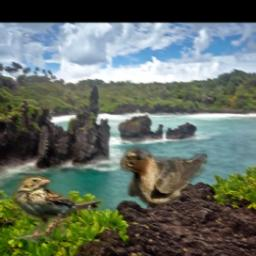Sparrow: (8, 175, 105, 243)
Swallow: (121, 147, 208, 207)
